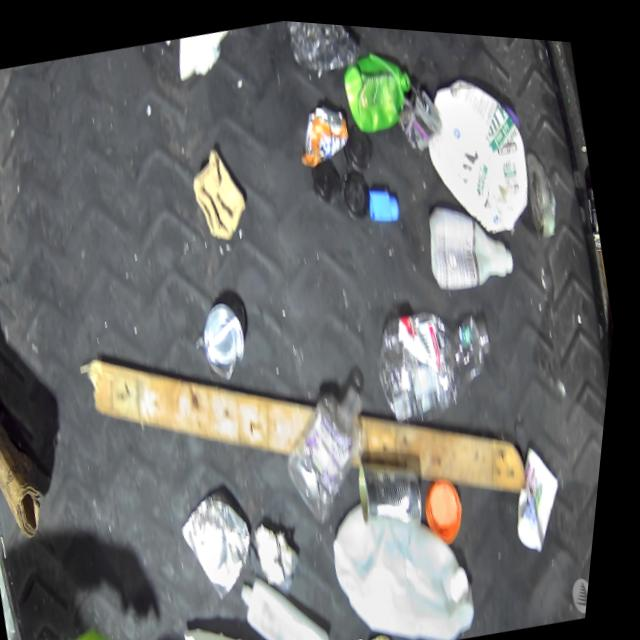can: (176, 478, 278, 605), (357, 439, 444, 538), (197, 291, 265, 381), (289, 90, 361, 167)
milk_jug: (325, 470, 501, 640), (408, 54, 554, 240)
non_white_jug: (334, 33, 427, 136)
plastic_bottle: (366, 281, 519, 432), (269, 364, 403, 532)
